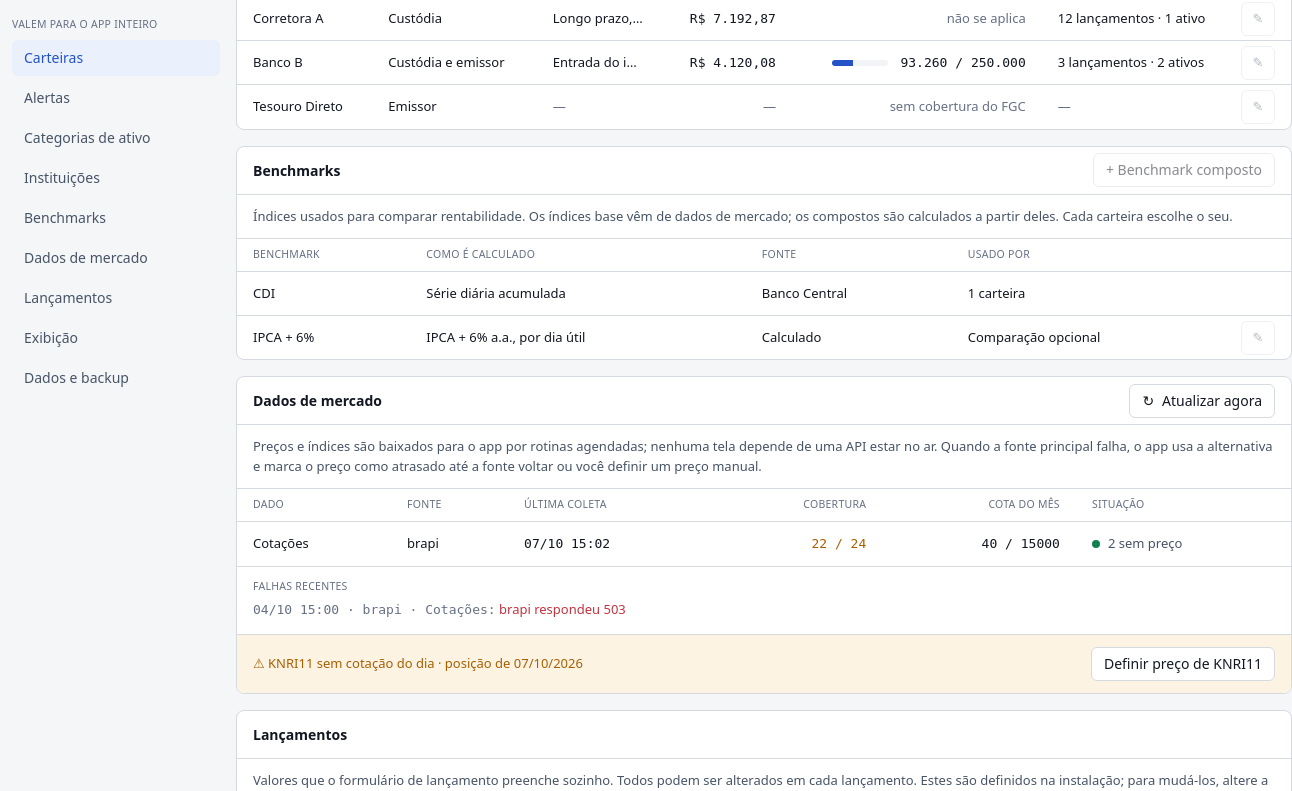
Test: SettingsView › "Atualizar agora" pede a coleta, avisa e relê
(page scrolled)
Click the button "↻ Atualizar agora": (1202, 401) left=1129, top=384, right=1275, bottom=418
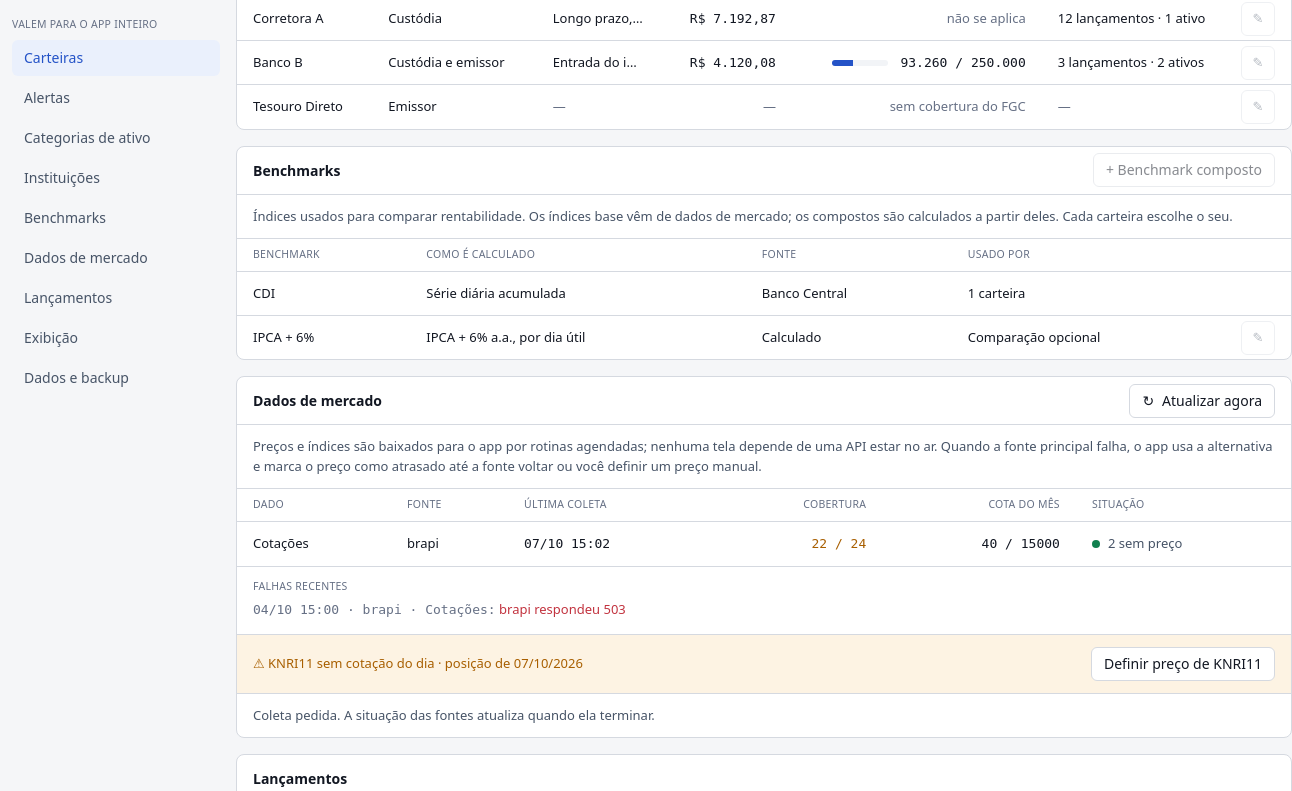
Expected: the message shows "Coleta pedida", left=253, top=706, right=655, bottom=724
